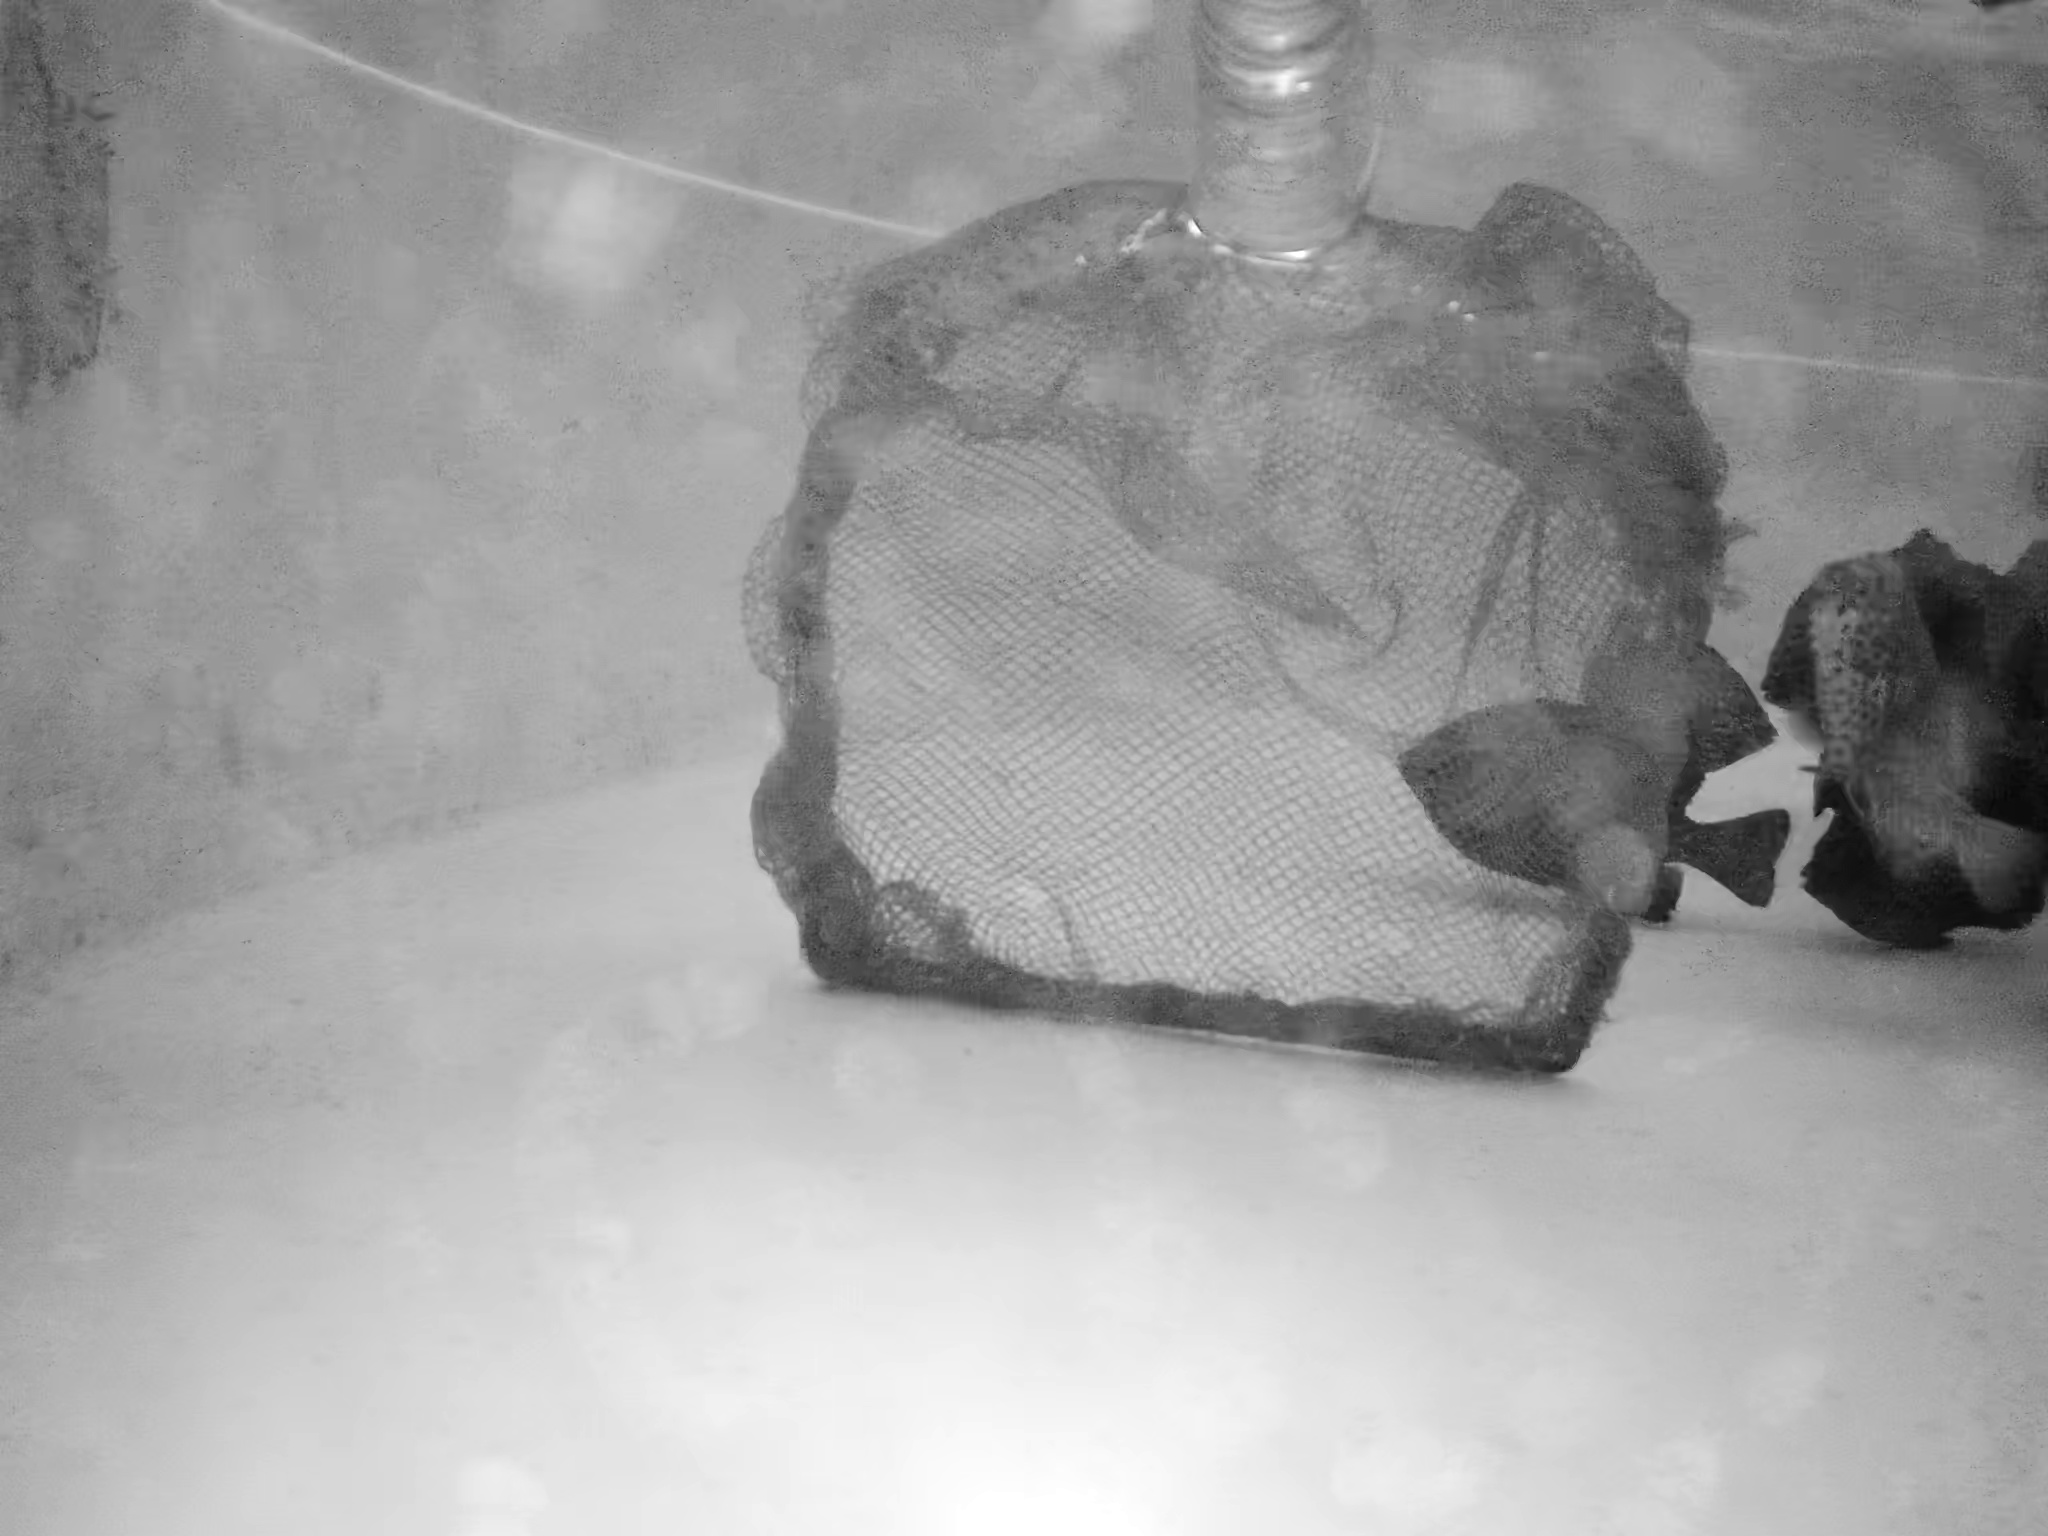fish: (1387, 687, 1798, 928), (1827, 513, 2048, 958), (1777, 523, 2004, 703), (1627, 608, 1785, 774)
